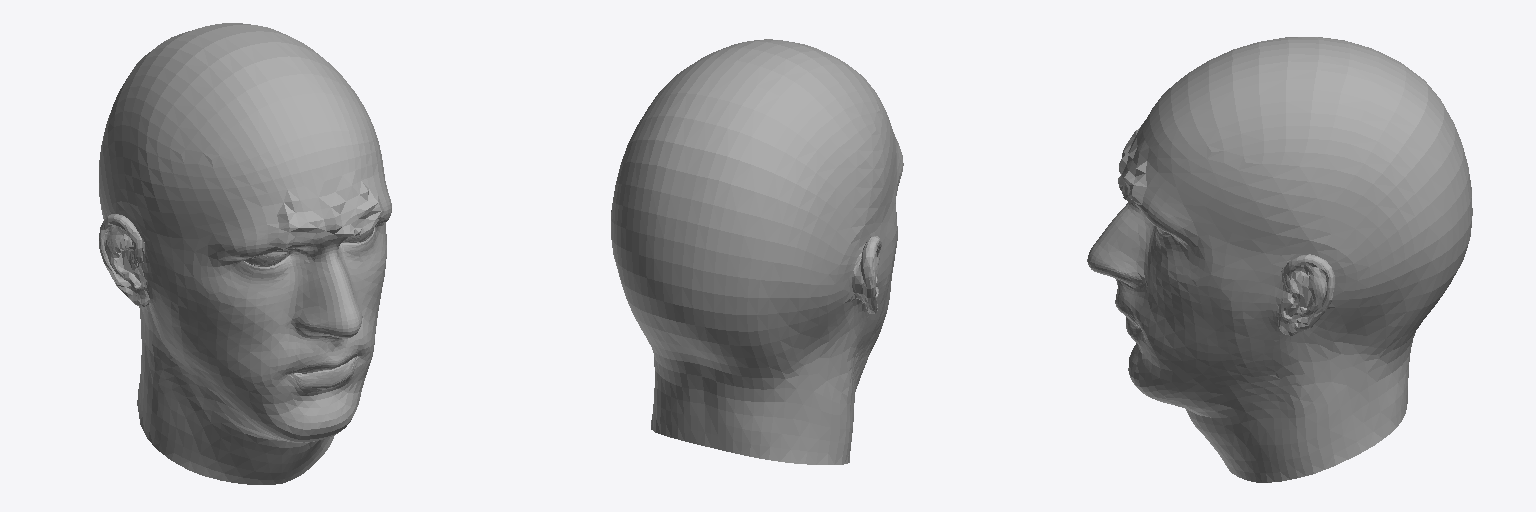
Rendered from White Guy Face4.obj.
The picture shows the model from 3 angles: view 1: azimuth 30°, elevation 25°; view 2: azimuth 150°, elevation 25°; view 3: azimuth 270°, elevation 25°; orthographic projection.
Parts seen in each view (by area): view 1: HeadHires; view 2: HeadHires; view 3: HeadHires.
Boxes of the visible parts, x1,y1,x2,y2 form: HeadHires: [99, 23, 391, 484]; HeadHires: [611, 39, 903, 464]; HeadHires: [1087, 37, 1472, 482].
Size of the model in its own units: 187 by 283 by 238.